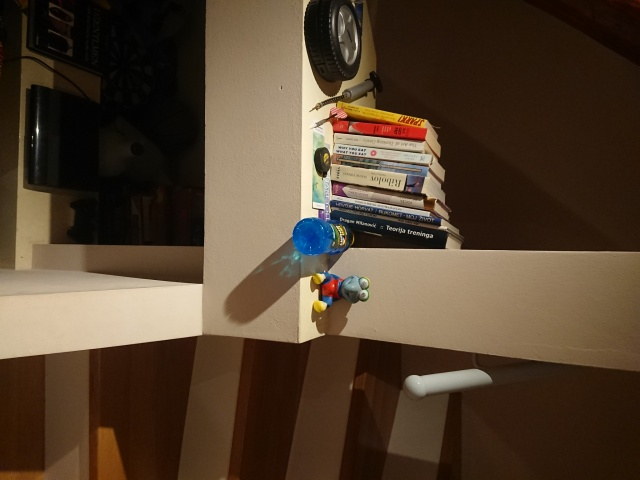Vindi Iso Sport Forest Strawberries 500mL: (291, 216, 359, 257)
